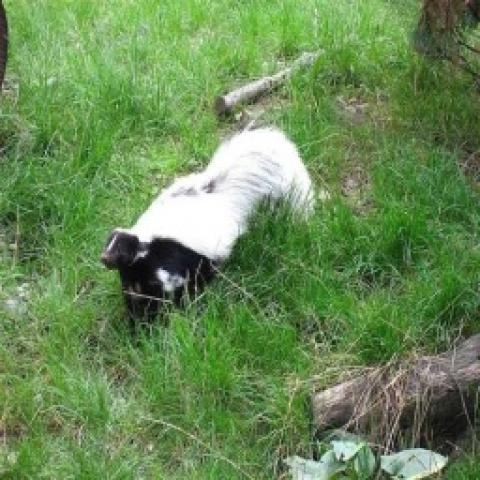small_animal: (98, 114, 320, 336)
